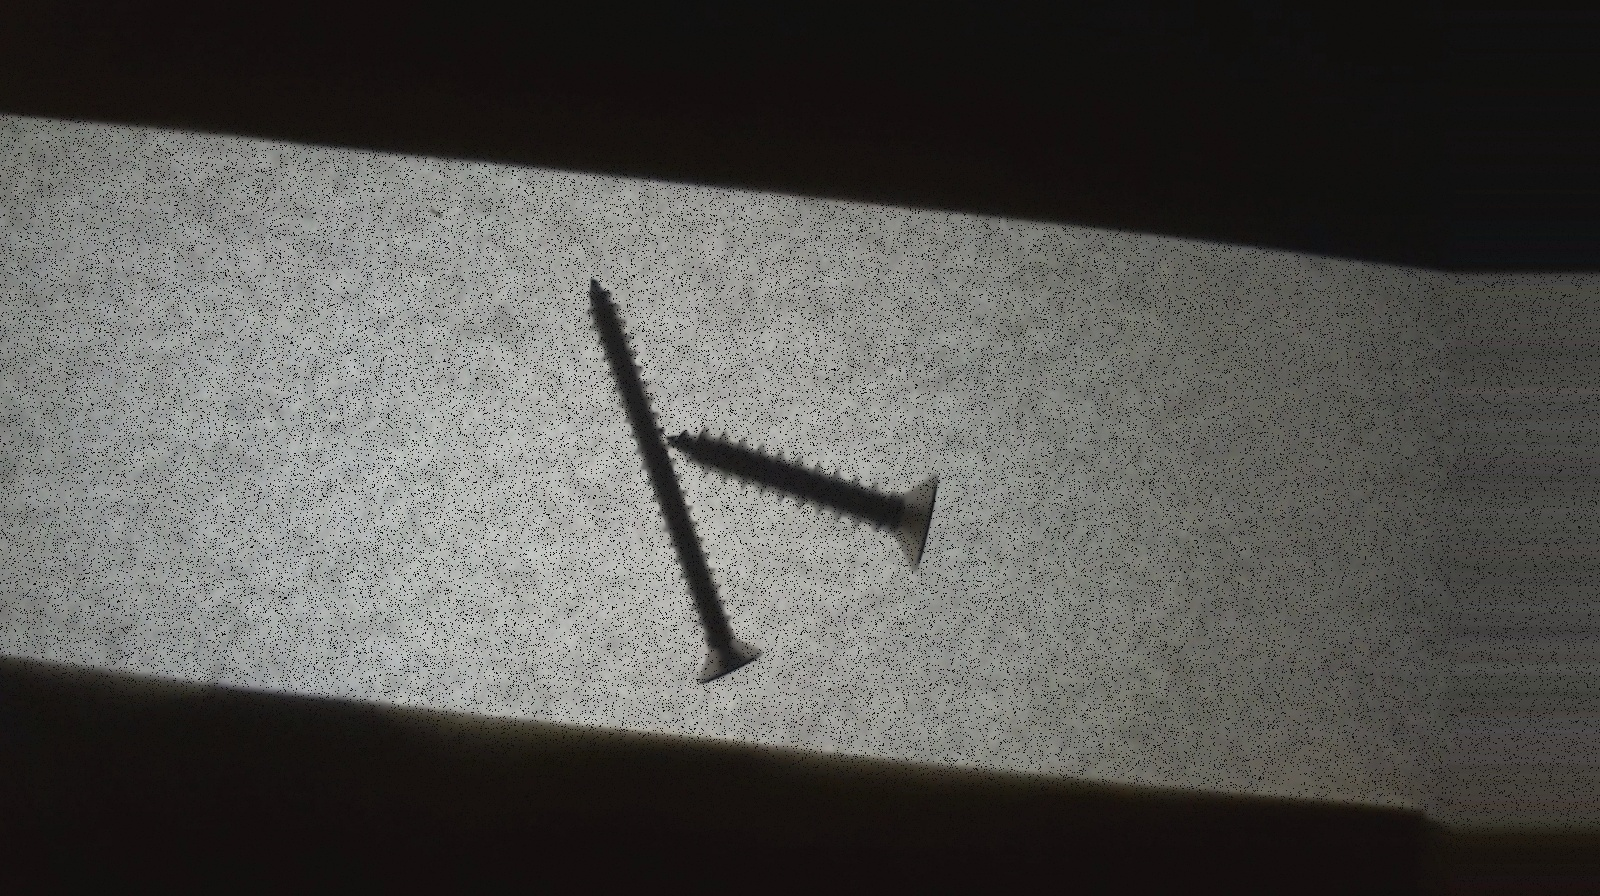S001: (666, 419, 945, 575)
S002: (584, 270, 767, 687)
